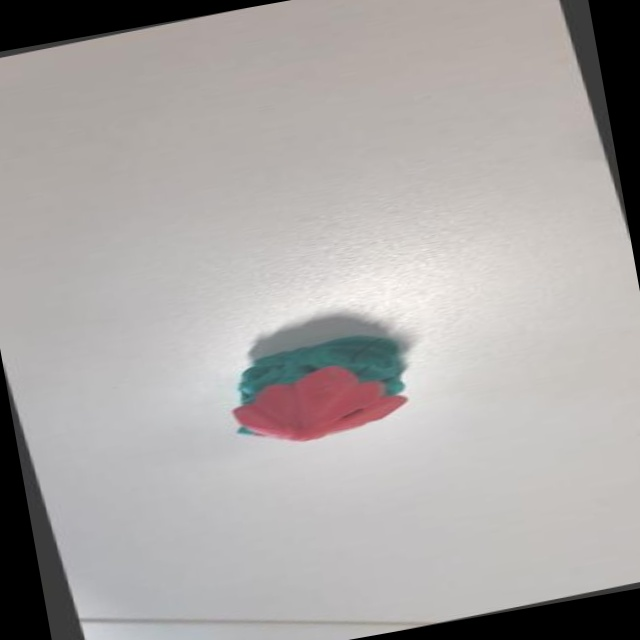House: (210, 315, 441, 463)
